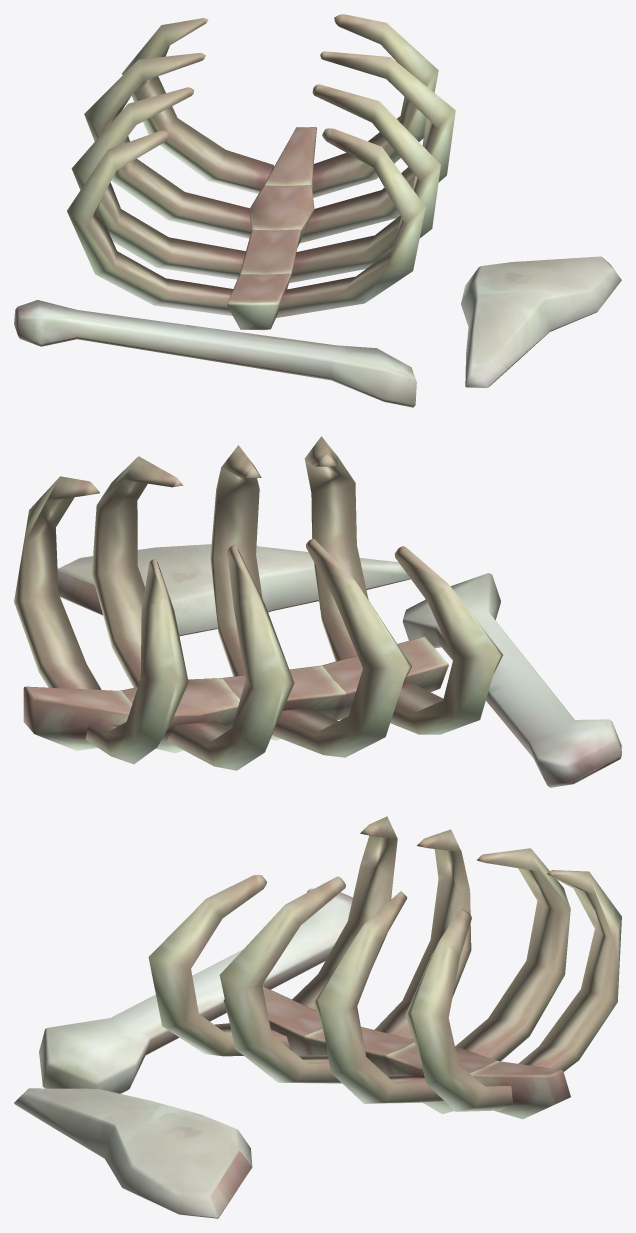
File: gutou.FBX
3 renders of one model, top to bottom at view 1: azimuth 30°, elevation 25°; view 2: azimuth 150°, elevation 25°; view 3: azimuth 270°, elevation 25°, orthographic. The views are drawn at different scales.
Visible parts, largest first — view 1: gutou; view 2: gutou; view 3: gutou.
Part boxes in pixels (bbox=[...]): gutou: bbox=[14, 14, 621, 407]; gutou: bbox=[14, 436, 621, 787]; gutou: bbox=[14, 816, 621, 1218].
Bounding box in the file's own units: 169 × 69.03 × 150.
